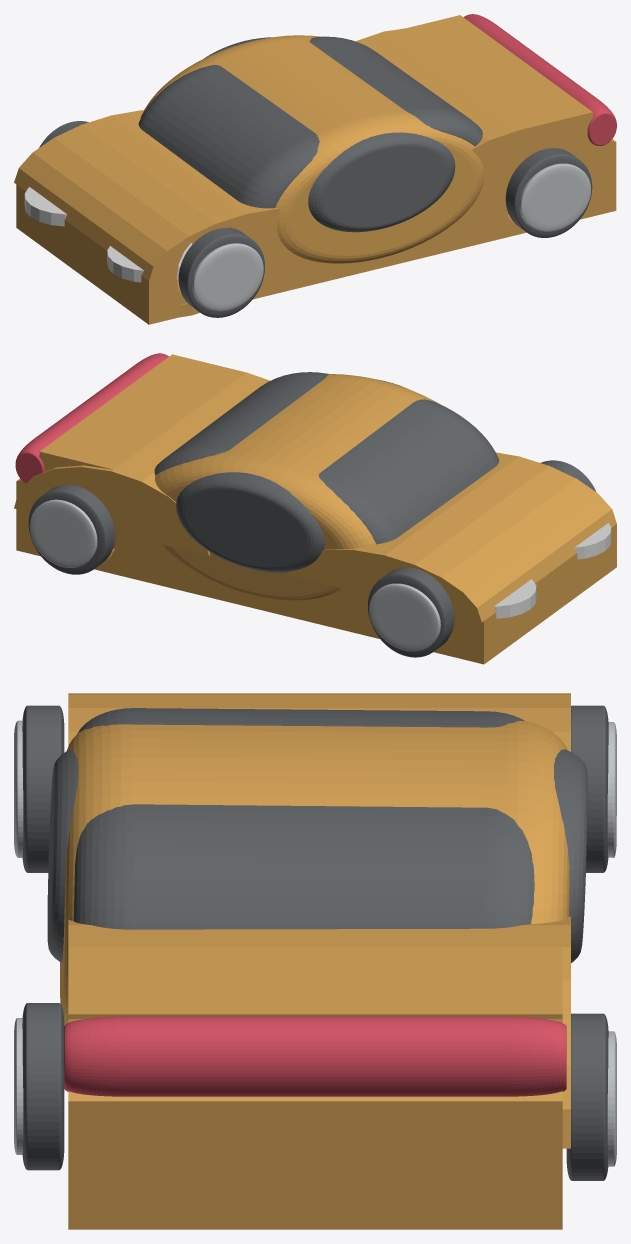
The picture shows the model from 3 angles, top to bottom: view 1: azimuth 30°, elevation 25°; view 2: azimuth 150°, elevation 25°; view 3: azimuth 270°, elevation 25°; orthographic projection. The views are drawn at different scales.
Parts seen in each view (by area): view 1: Mesh_Mesh_head_geo.001_lambert2SG.001; view 2: Mesh_Mesh_head_geo.001_lambert2SG.001; view 3: Mesh_Mesh_head_geo.001_lambert2SG.001.
Part boxes in pixels (<box>): Mesh_Mesh_head_geo.001_lambert2SG.001: <box>14,14,616,324</box>; Mesh_Mesh_head_geo.001_lambert2SG.001: <box>14,353,616,664</box>; Mesh_Mesh_head_geo.001_lambert2SG.001: <box>14,693,616,1229</box>.
Size of the model in its own units: 125 by 34.13 by 72.
